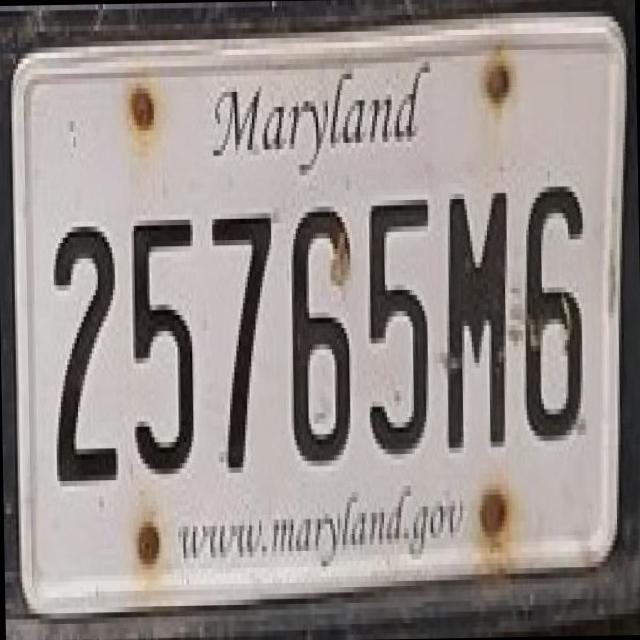2: (42, 204, 123, 486)
5: (118, 198, 202, 474), (356, 183, 436, 459)
6: (280, 185, 360, 471), (512, 165, 593, 441)
7: (201, 197, 277, 468)
M: (434, 177, 515, 453)
